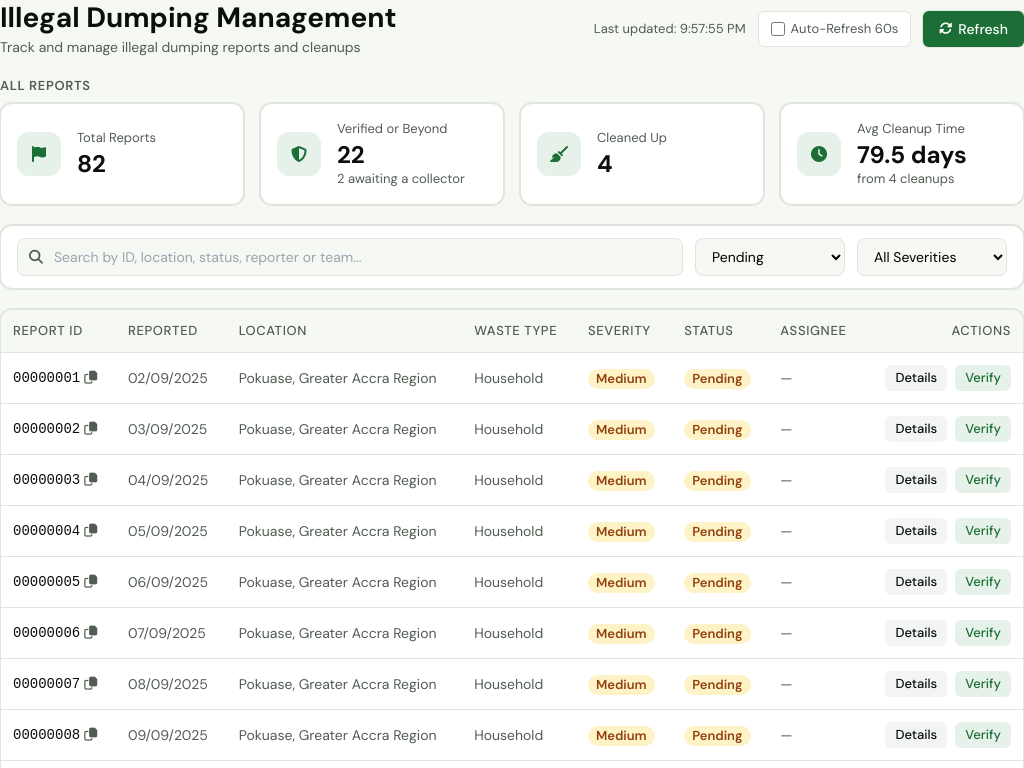
Test case: Media, Volunteer and User accounts › Media reads nationally without reporter details and can only verify
The width and height of the screenshot is (1024, 768).
Check: the text with test id "kpi-total-reports" does not show "—", box [77,148,106,179]
Click the button "Details" in the row of "00000001": point(916, 378) [885,365,947,391]
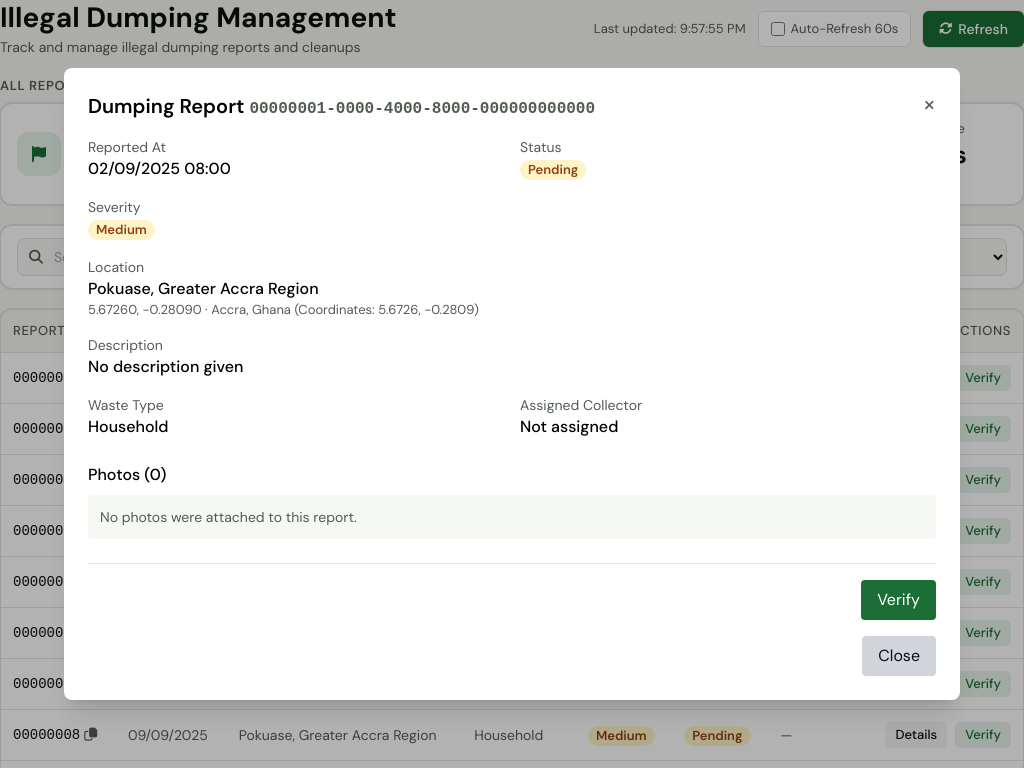
Check: the button "Verify" is shown, box [861,580,936,620]
